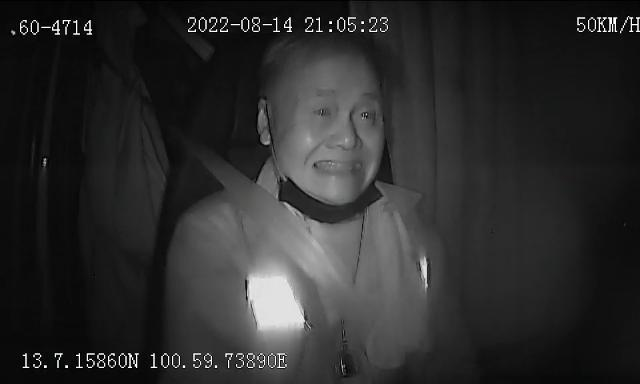SafeDriving: (350, 98, 382, 130), (306, 96, 338, 124)
Seatbelt: (180, 112, 360, 314)
